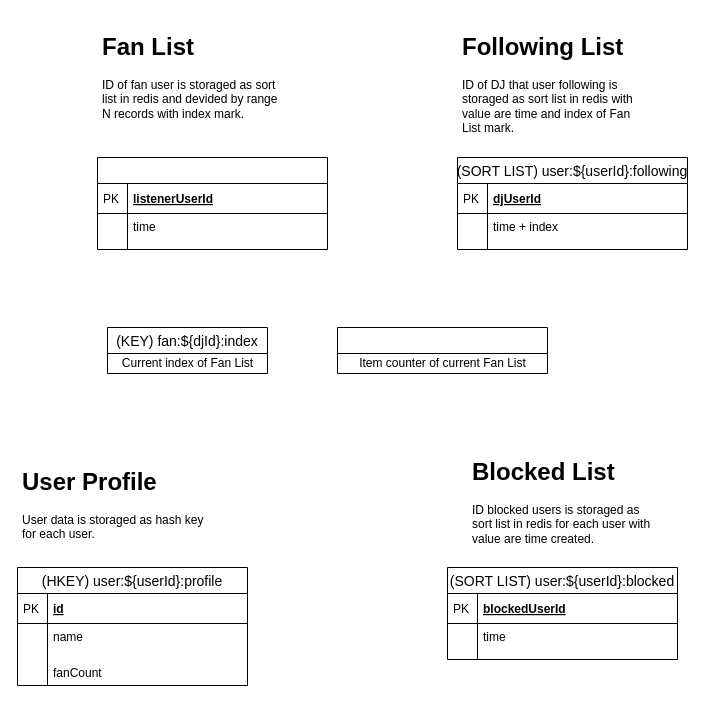
Image size: 705x705. Some labels were removed from this diagram. The box of each missing label's shape, as (x1, y1, x2, y2) in pixels:
(KEY) fan:${djId}:indexstatistic: (336, 326, 548, 374)
(SORT LIST) fan:${djId}:list:${index}: (96, 156, 328, 250)
